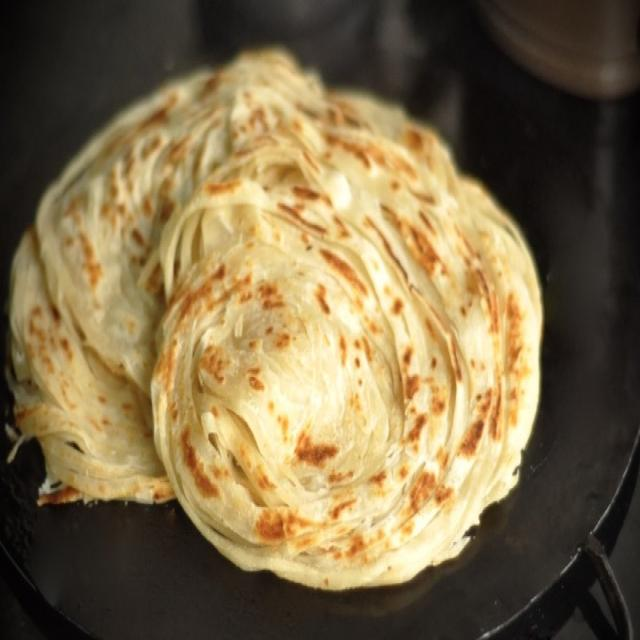PAROTTA: (3, 46, 543, 591)
